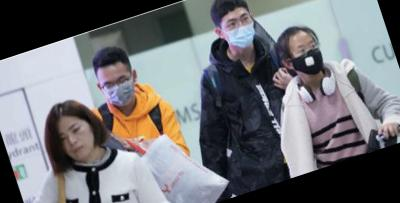with_mask: (219, 8, 261, 55), (287, 35, 329, 80), (98, 69, 141, 112)
without_mask: (53, 114, 103, 168)
